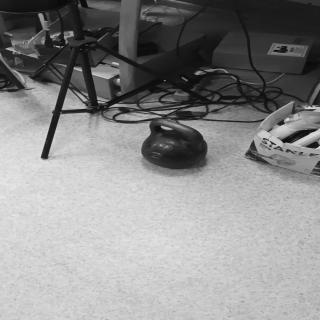kettlebell: (141, 120, 212, 170)
